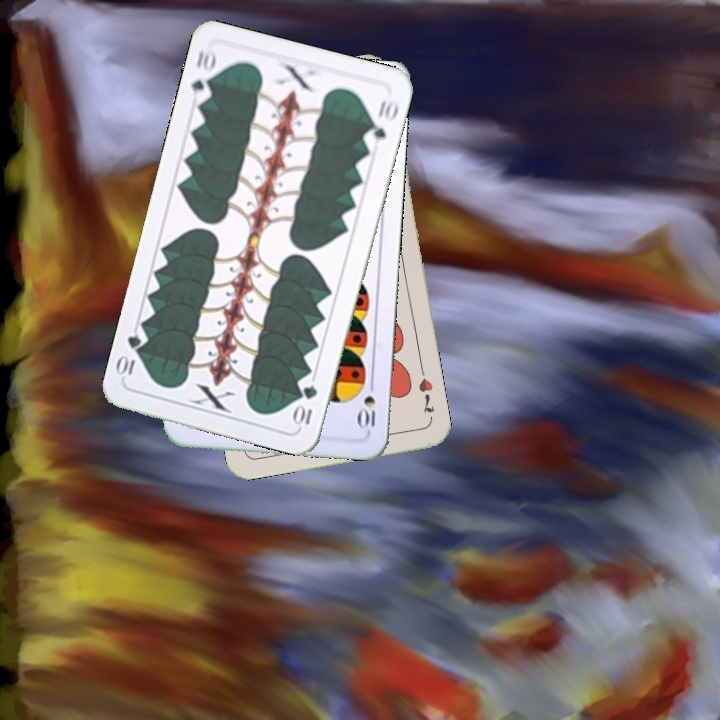G10: (187, 44, 219, 105), (291, 381, 320, 429)
H7: (414, 374, 437, 416)
S10: (355, 375, 378, 434)
